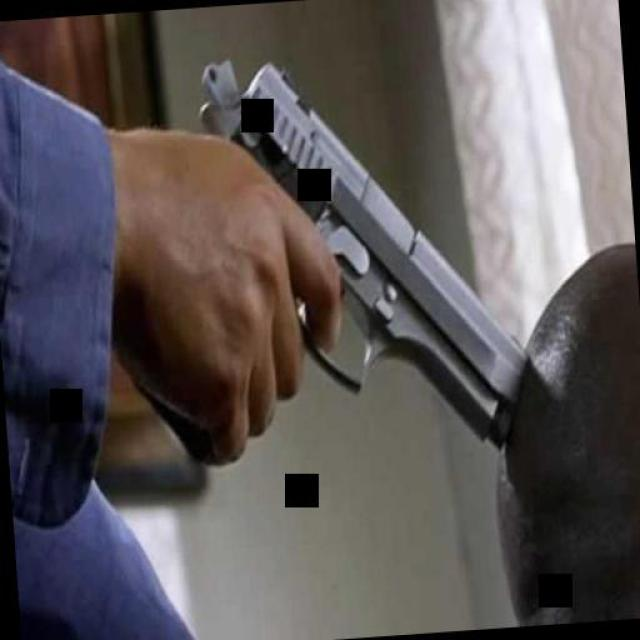gun: (105, 34, 536, 518)
